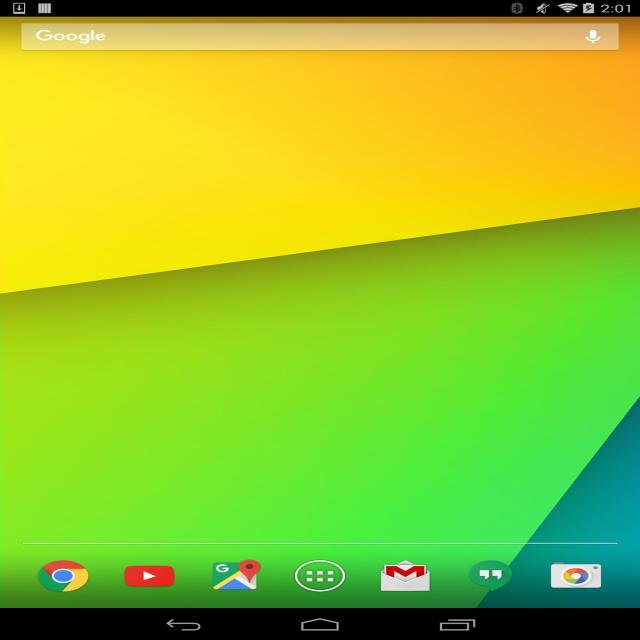button: (542, 558, 615, 596), (116, 556, 182, 598), (458, 556, 520, 598), (377, 558, 437, 599), (207, 559, 270, 597), (34, 559, 91, 595), (292, 556, 348, 592), (574, 24, 610, 47)
field: (21, 24, 623, 48)
image: (0, 18, 640, 606)
label: (30, 28, 110, 47)
